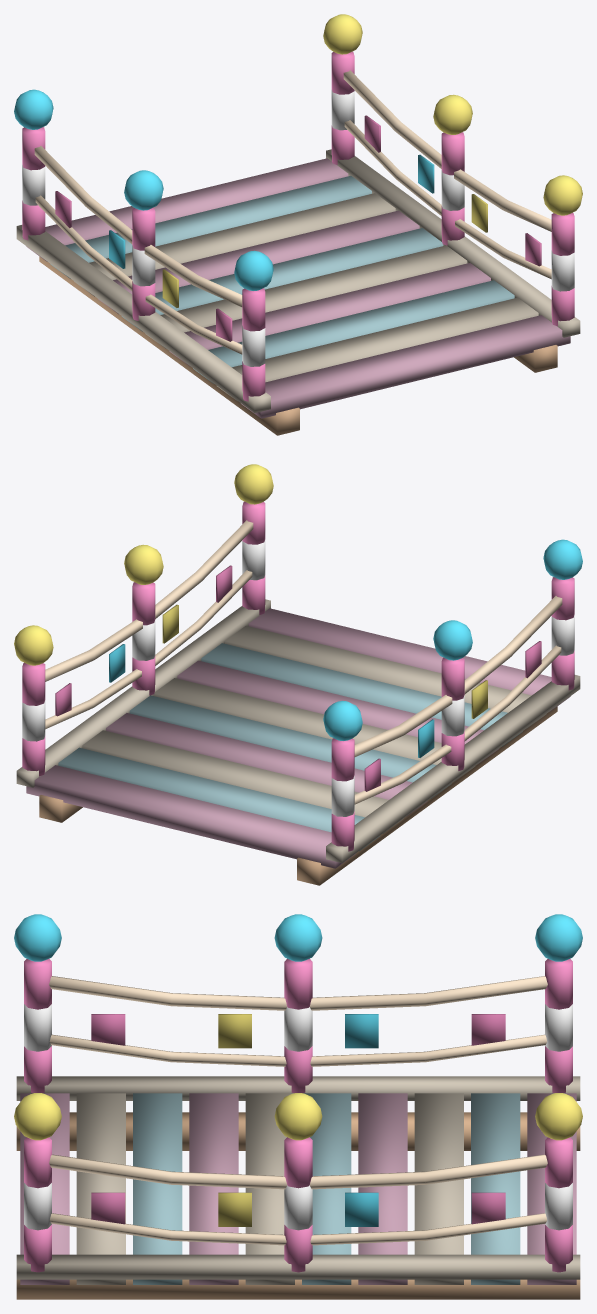
File: bg_bridge.glb
The picture shows the model from 3 angles, top to bottom: view 1: azimuth 30°, elevation 25°; view 2: azimuth 150°, elevation 25°; view 3: azimuth 270°, elevation 25°; orthographic projection. The views are drawn at different scales.
Visible parts, largest first — view 1: M_Bridge__b_pl1, M_Bridge__b_pl0, M_Bridge__b_pl2, M_Bridge__b_rope, M_Bridge__b_cane, M_Bridge__b_cane2, M_Bridge__gb0, M_Bridge__gb1, M_Bridge__b_beam, M_Bridge__flg0, M_Bridge__flg2, M_Bridge__flg1; view 2: M_Bridge__b_pl1, M_Bridge__b_pl0, M_Bridge__b_pl2, M_Bridge__b_rope, M_Bridge__b_cane, M_Bridge__b_cane2, M_Bridge__gb0, M_Bridge__gb1, M_Bridge__b_beam, M_Bridge__flg0, M_Bridge__flg1, M_Bridge__flg2; view 3: M_Bridge__b_pl1, M_Bridge__b_rope, M_Bridge__b_pl0, M_Bridge__b_pl2, M_Bridge__b_cane, M_Bridge__b_beam, M_Bridge__b_cane2, M_Bridge__gb0, M_Bridge__gb1, M_Bridge__flg0, M_Bridge__flg1, M_Bridge__flg2.
Boxes of the visible parts, x1,y1,x2,y2 form: M_Bridge__b_pl1: (16,149,580,413); M_Bridge__b_pl0: (26,158,570,418); M_Bridge__b_pl2: (50,175,514,383); M_Bridge__b_rope: (34,70,551,354); M_Bridge__b_cane: (22,51,574,401); M_Bridge__b_cane2: (22,90,574,366); M_Bridge__gb0: (14,89,273,290); M_Bridge__gb1: (323,14,582,215); M_Bridge__b_beam: (39,256,557,435); M_Bridge__flg0: (55,115,541,341); M_Bridge__flg2: (109,154,434,268); M_Bridge__flg1: (162,194,487,307); M_Bridge__b_pl1: (16,599,580,863); M_Bridge__b_pl0: (26,608,570,868); M_Bridge__b_pl2: (58,643,522,851); M_Bridge__b_rope: (45,520,562,804); M_Bridge__b_cane: (22,501,574,851); M_Bridge__b_cane2: (22,540,574,816); M_Bridge__gb0: (323,539,582,740); M_Bridge__gb1: (14,464,273,665); M_Bridge__b_beam: (39,706,557,885); M_Bridge__flg0: (55,565,541,791); M_Bridge__flg1: (162,604,487,718); M_Bridge__flg2: (109,644,434,757); M_Bridge__b_pl1: (16,1076,580,1284); M_Bridge__b_rope: (49,976,547,1245); M_Bridge__b_pl0: (20,1093,576,1284); M_Bridge__b_pl2: (133,1093,520,1284); M_Bridge__b_cane: (24,958,572,1272); M_Bridge__b_beam: (16,1112,580,1299); M_Bridge__b_cane2: (24,1004,572,1230); M_Bridge__gb0: (14,914,582,961); M_Bridge__gb1: (14,1093,582,1140); M_Bridge__flg0: (91,1014,505,1224); M_Bridge__flg1: (218,1014,251,1226); M_Bridge__flg2: (345,1014,378,1226).
Bounding box in the file's own units: 3.32 × 1.67 × 4.04.
